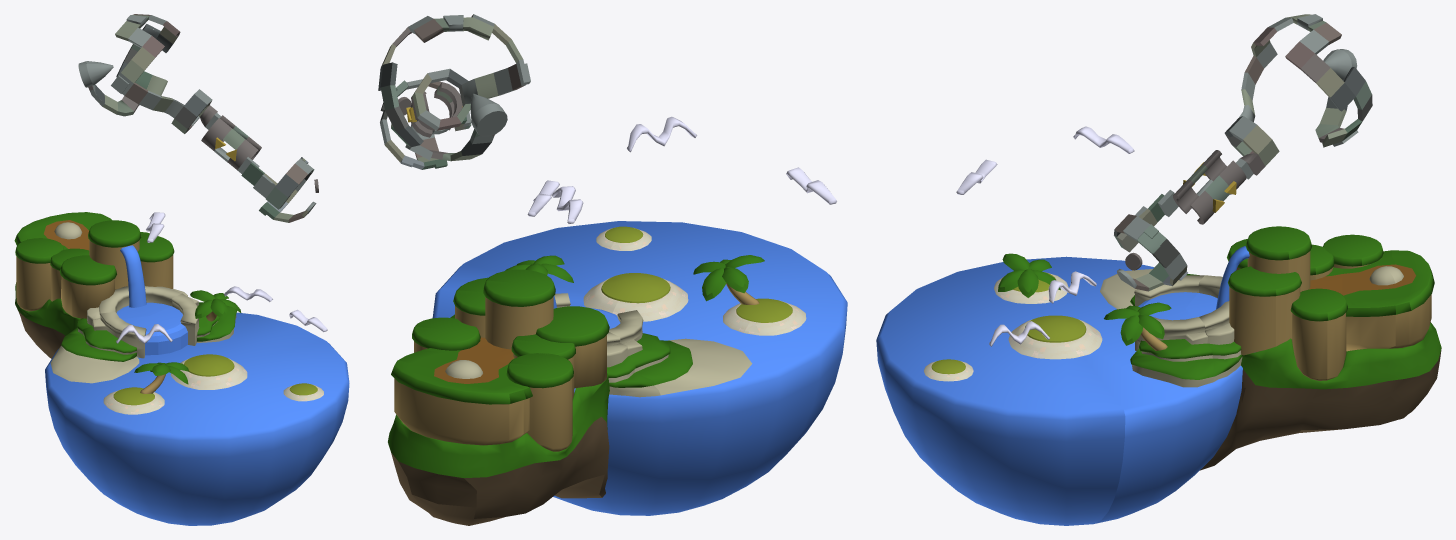
The model's file is beachbowl_blender.obj.
3 renders of one model, left to right at view 1: azimuth 30°, elevation 25°; view 2: azimuth 150°, elevation 25°; view 3: azimuth 270°, elevation 25°, orthographic. The views are drawn at different scales.
Parts seen in each view (by area): view 1: n2b2, n12b12, n6b7, n10b10, n8b6, n11b9, n9b11, n5b4, n4b5, n13b13, n0b0, n1b1 (+3 smaller); view 2: n2b2, n6b7, n8b6, n12b12, n1b1, n0b0, n10b10, n5b4, n4b5, n9b11, n13b13, n7b8 (+3 smaller); view 3: n2b2, n12b12, n6b7, n8b6, n1b1, n0b0, n10b10, n5b4, n9b11, n13b13, n11b9, n4b5 (+3 smaller).
Boxes of the visible parts, x1=… form: n2b2: x1=45, y1=312, x2=349, y2=525; n12b12: x1=78, y1=14, x2=318, y2=222; n6b7: x1=14, y1=212, x2=174, y2=285; n10b10: x1=50, y1=286, x2=236, y2=383; n8b6: x1=16, y1=240, x2=173, y2=318; n11b9: x1=116, y1=245, x2=187, y2=355; n9b11: x1=61, y1=302, x2=236, y2=361; n5b4: x1=103, y1=358, x2=323, y2=414; n4b5: x1=113, y1=354, x2=317, y2=405; n13b13: x1=116, y1=212, x2=327, y2=343; n0b0: x1=15, y1=282, x2=80, y2=335; n1b1: x1=15, y1=305, x2=65, y2=358; n2b2: x1=432, y1=221, x2=847, y2=515; n6b7: x1=391, y1=269, x2=609, y2=404; n8b6: x1=394, y1=296, x2=606, y2=451; n12b12: x1=378, y1=14, x2=530, y2=169; n1b1: x1=391, y1=417, x2=609, y2=525; n0b0: x1=388, y1=373, x2=609, y2=478; n10b10: x1=554, y1=293, x2=752, y2=397; n5b4: x1=583, y1=228, x2=806, y2=335; n4b5: x1=601, y1=226, x2=792, y2=322; n9b11: x1=450, y1=314, x2=692, y2=387; n13b13: x1=527, y1=116, x2=836, y2=224; n7b8: x1=434, y1=337, x2=514, y2=383; n2b2: x1=876, y1=256, x2=1242, y2=525; n12b12: x1=1114, y1=14, x2=1372, y2=291; n6b7: x1=1227, y1=226, x2=1434, y2=321; n8b6: x1=1229, y1=251, x2=1431, y2=380; n1b1: x1=1200, y1=348, x2=1441, y2=470; n0b0: x1=1241, y1=322, x2=1441, y2=389; n10b10: x1=1100, y1=269, x2=1242, y2=387; n5b4: x1=924, y1=273, x2=1102, y2=381; n9b11: x1=1130, y1=274, x2=1242, y2=379; n13b13: x1=956, y1=126, x2=1134, y2=346; n11b9: x1=1138, y1=246, x2=1249, y2=320; n4b5: x1=931, y1=272, x2=1086, y2=374.
Size of the model in its own units: 61.8 by 85.42 by 85.43.
